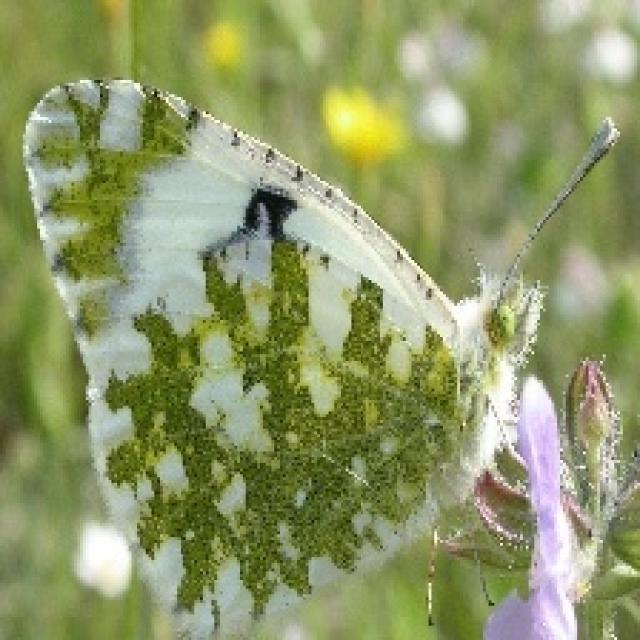butterfly: (17, 72, 623, 637)
